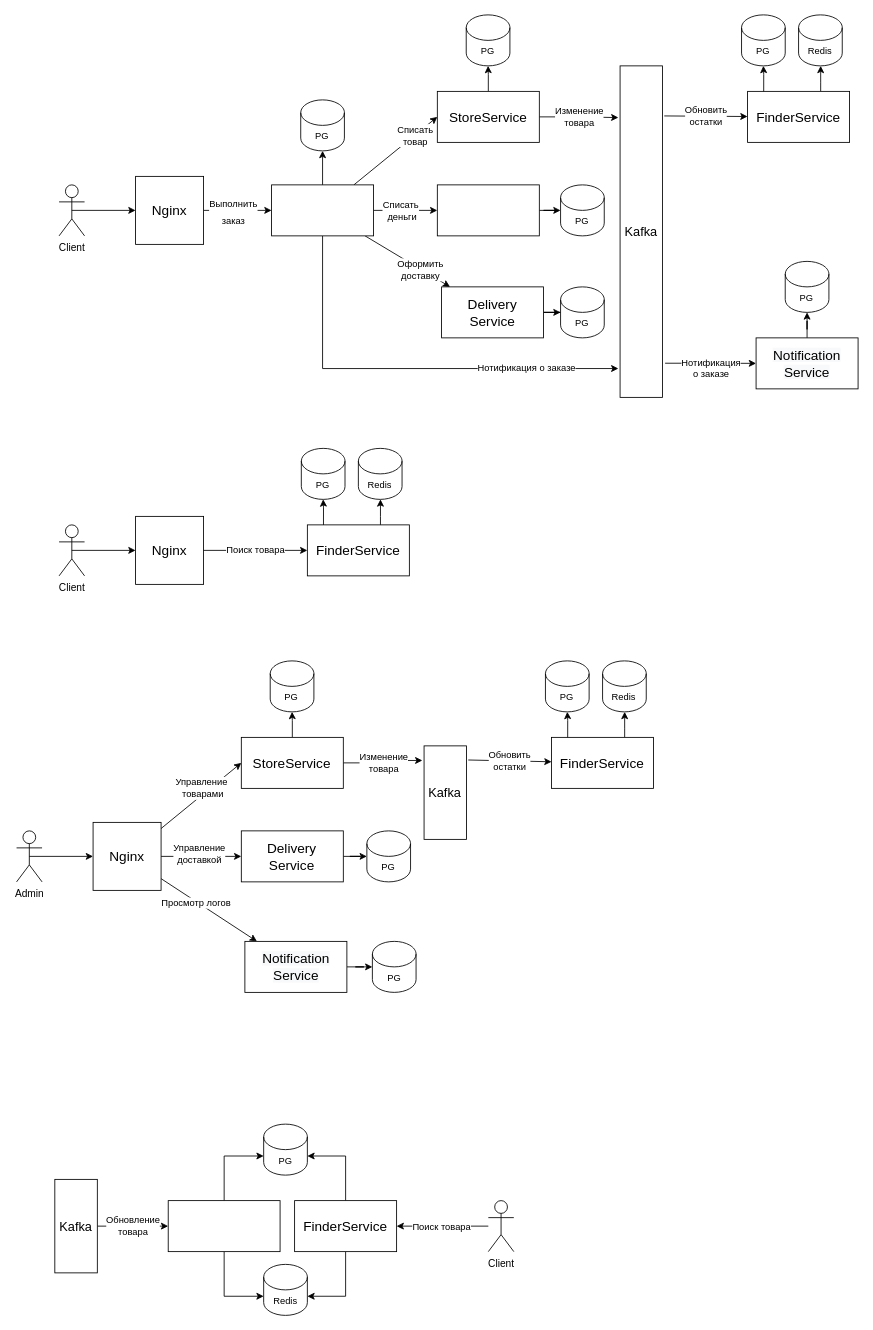
Image size: 873x1330. Some labels were removed from this diagram. The centre of each missing label's shape, as x and y in pixels:
"FinderConsumer" belongs at point 223,1226.
"OrderService" belongs at point 322,210.
"Transaction Service" belongs at point 487,210.
